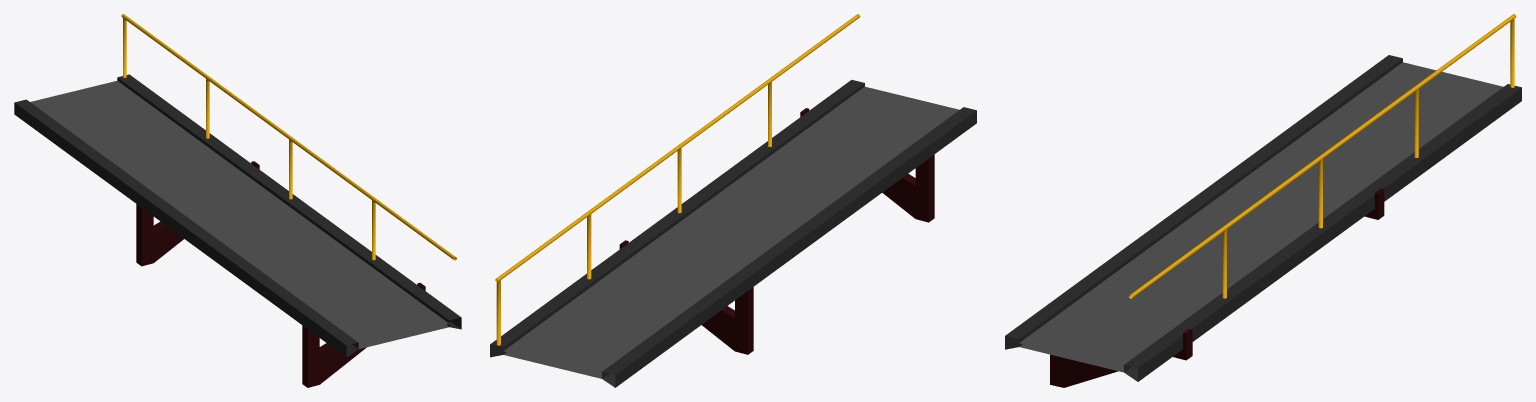
The model's file is Catwalk_8m.fbx.
3 views of the same model, side by side, from view 1: azimuth 30°, elevation 25°; view 2: azimuth 150°, elevation 25°; view 3: azimuth 330°, elevation 25° (orthographic). The views are drawn at different scales.
Visible parts, largest first — view 1: Catwalk; view 2: Catwalk; view 3: Catwalk.
Part boxes in pixels (x1,y1,x2,y2): Catwalk: [14, 14, 461, 387]; Catwalk: [490, 14, 976, 387]; Catwalk: [1005, 14, 1521, 387].
Size of the model in its own units: 154 by 165 by 750.
